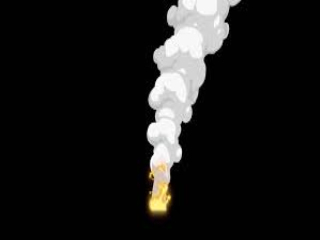fire: (139, 181, 178, 218)
smoke: (148, 4, 233, 173)
